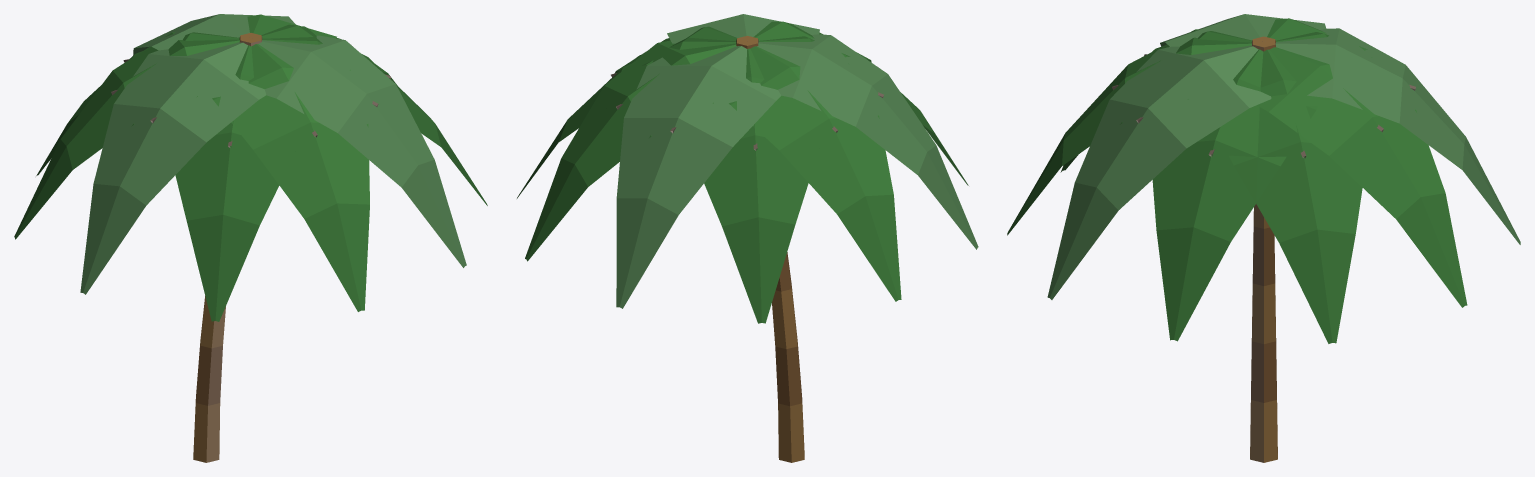
Rendered from palm_fan_tall.glb.
The picture shows the model from 3 angles, left to right: view 1: azimuth 30°, elevation 25°; view 2: azimuth 150°, elevation 25°; view 3: azimuth 270°, elevation 25°; orthographic projection. The views are drawn at different scales.
Visible parts, largest first — view 1: palm_fan_tall; view 2: palm_fan_tall; view 3: palm_fan_tall.
Boxes of the visible parts, x1,y1,x2,y2 form: palm_fan_tall: [14, 14, 487, 462]; palm_fan_tall: [517, 14, 978, 462]; palm_fan_tall: [1007, 14, 1520, 462].
Size of the model in its own units: 6.49 by 6.31 by 6.71.
